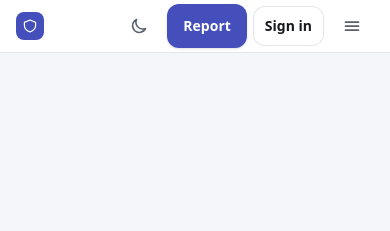
Test: Header › opens and closes the mobile menu
The width and height of the screenshot is (390, 231).
Click the button named "Open menu" at coordinates (352, 26), box left=330, top=4, right=374, bottom=48
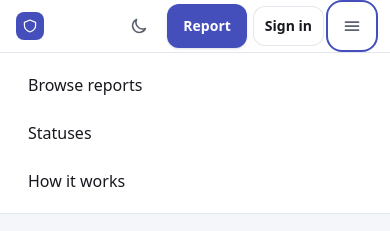
Result: the navigation bar named "Mobile" is shown at left=28, top=74, right=142, bottom=192
Click the button named "Close menu" at coordinates (352, 26), box left=330, top=4, right=374, bottom=48
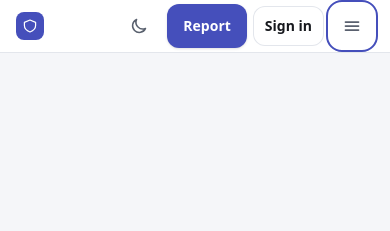
Result: the navigation bar "Mobile" is gone
